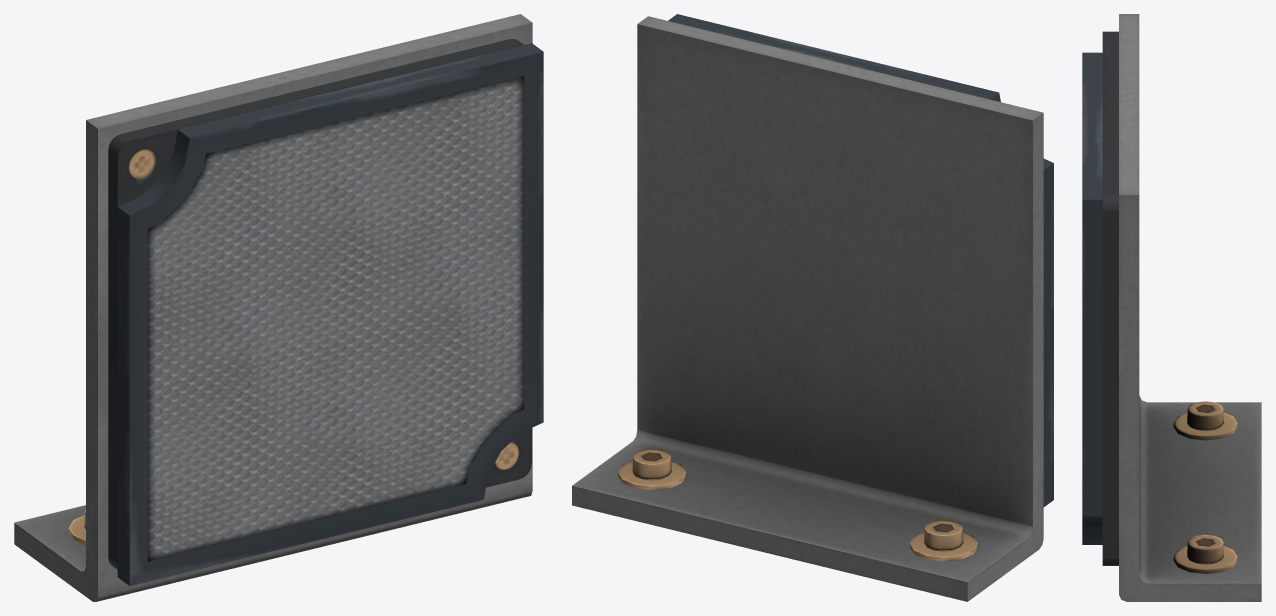
File: RetroReflectiveMirror.glb
3 renders of one model, left to right at view 1: azimuth 30°, elevation 25°; view 2: azimuth 150°, elevation 25°; view 3: azimuth 270°, elevation 25°, orthographic. The views are drawn at different scales.
Parts seen in each view (by area): view 1: RetroReflectiveMirror; view 2: RetroReflectiveMirror; view 3: RetroReflectiveMirror.
Part boxes in pixels (<box>): RetroReflectiveMirror: <box>14,14,543,601</box>; RetroReflectiveMirror: <box>572,14,1053,601</box>; RetroReflectiveMirror: <box>1082,14,1261,601</box>.
Bounding box in the file's own units: 0.0105 × 0.011 × 0.0044.
1 material, 1 textured.
